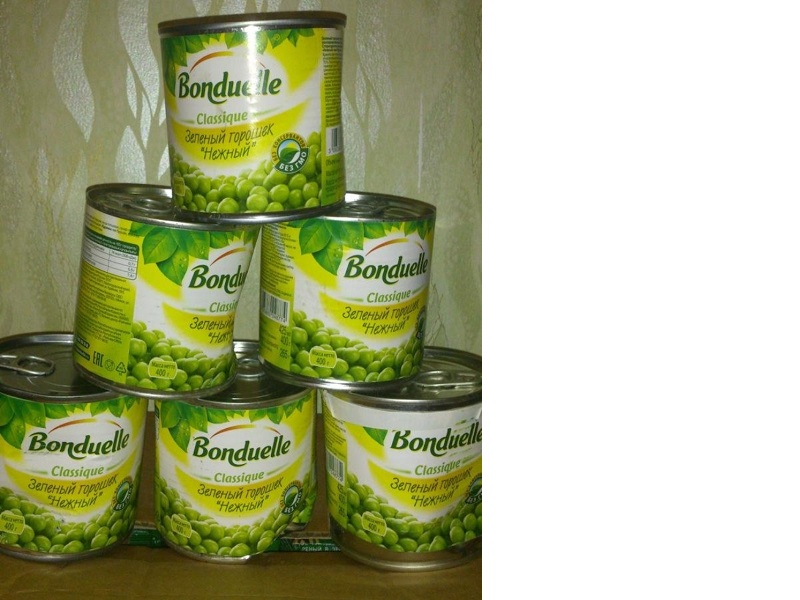peas: (52, 175, 264, 407), (154, 8, 366, 237), (257, 188, 440, 399), (1, 337, 151, 564), (156, 376, 330, 571), (330, 355, 484, 563)
